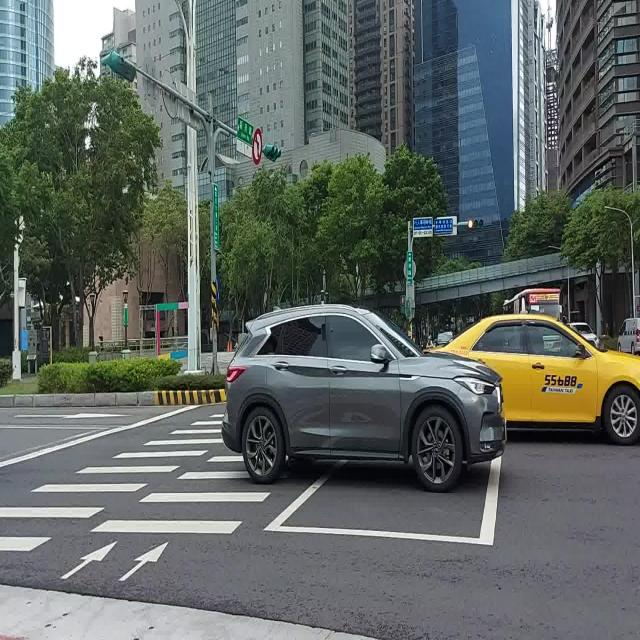car: (221, 304, 505, 491), (444, 313, 640, 444), (618, 318, 640, 353)
crosswalk: (0, 411, 224, 553), (87, 452, 272, 536)
